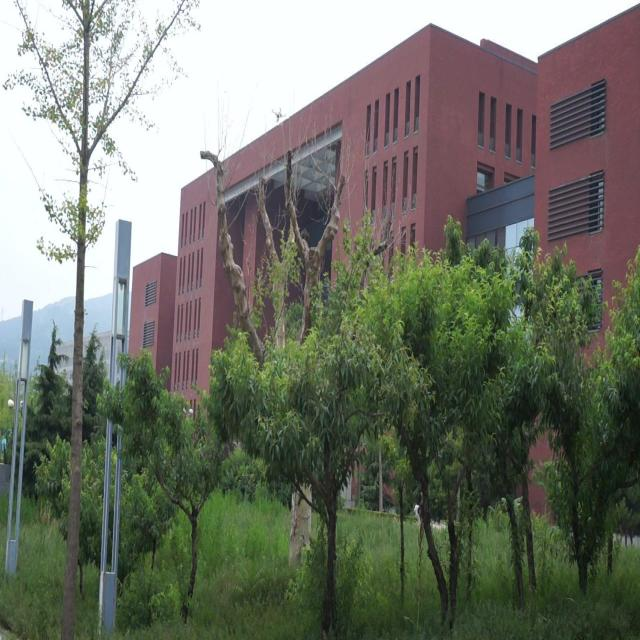UAV: (272, 107, 286, 122)
